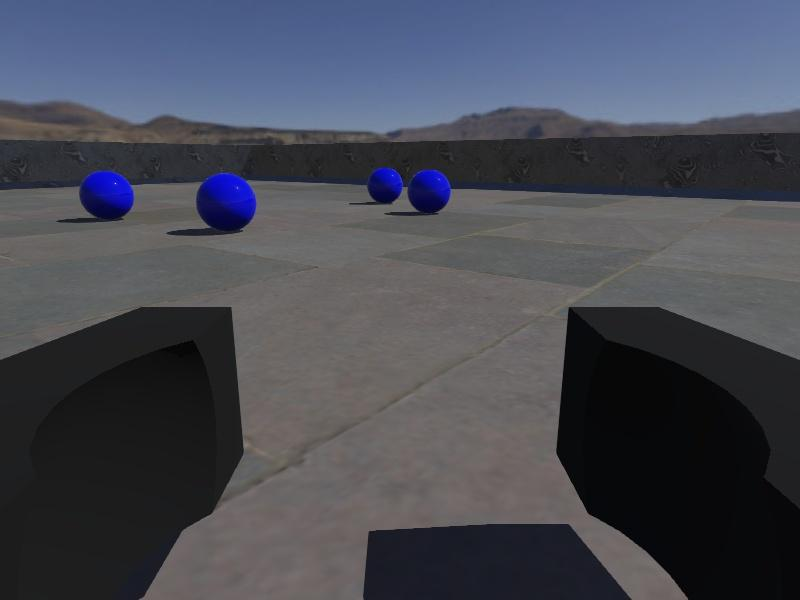blue ball: (195, 172, 256, 232), (79, 170, 135, 222), (407, 168, 452, 214), (366, 166, 403, 205)
